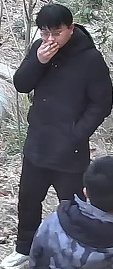smoking: (16, 25, 67, 91)
